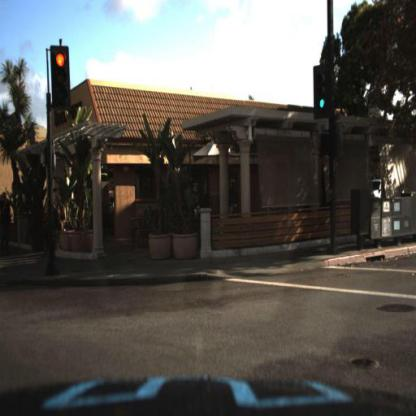pedestrian: (1, 189, 20, 258), (1, 184, 14, 265)
trafficLight-Red: (50, 46, 73, 113), (54, 46, 71, 111)
